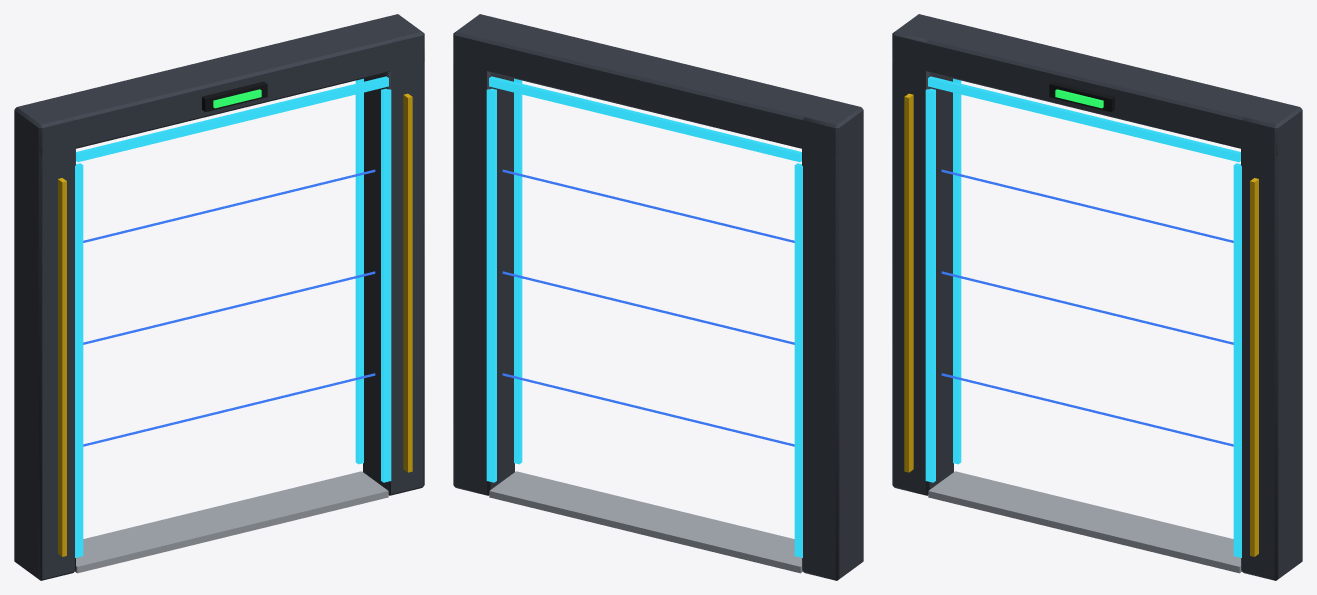
File: forcefield_shield_doorway.glb
The picture shows the model from 3 angles, left to right: view 1: azimuth 30°, elevation 25°; view 2: azimuth 150°, elevation 25°; view 3: azimuth 330°, elevation 25°; orthographic projection.
Parts seen in each view (by area): view 1: forcefield_shield_doorway; view 2: forcefield_shield_doorway; view 3: forcefield_shield_doorway.
Boxes of the visible parts, x1=… form: forcefield_shield_doorway: x1=14, y1=14, x2=424, y2=580; forcefield_shield_doorway: x1=453, y1=14, x2=863, y2=580; forcefield_shield_doorway: x1=892, y1=14, x2=1302, y2=580.
Size of the model in its own units: 2.48 by 2.8 by 0.365.
